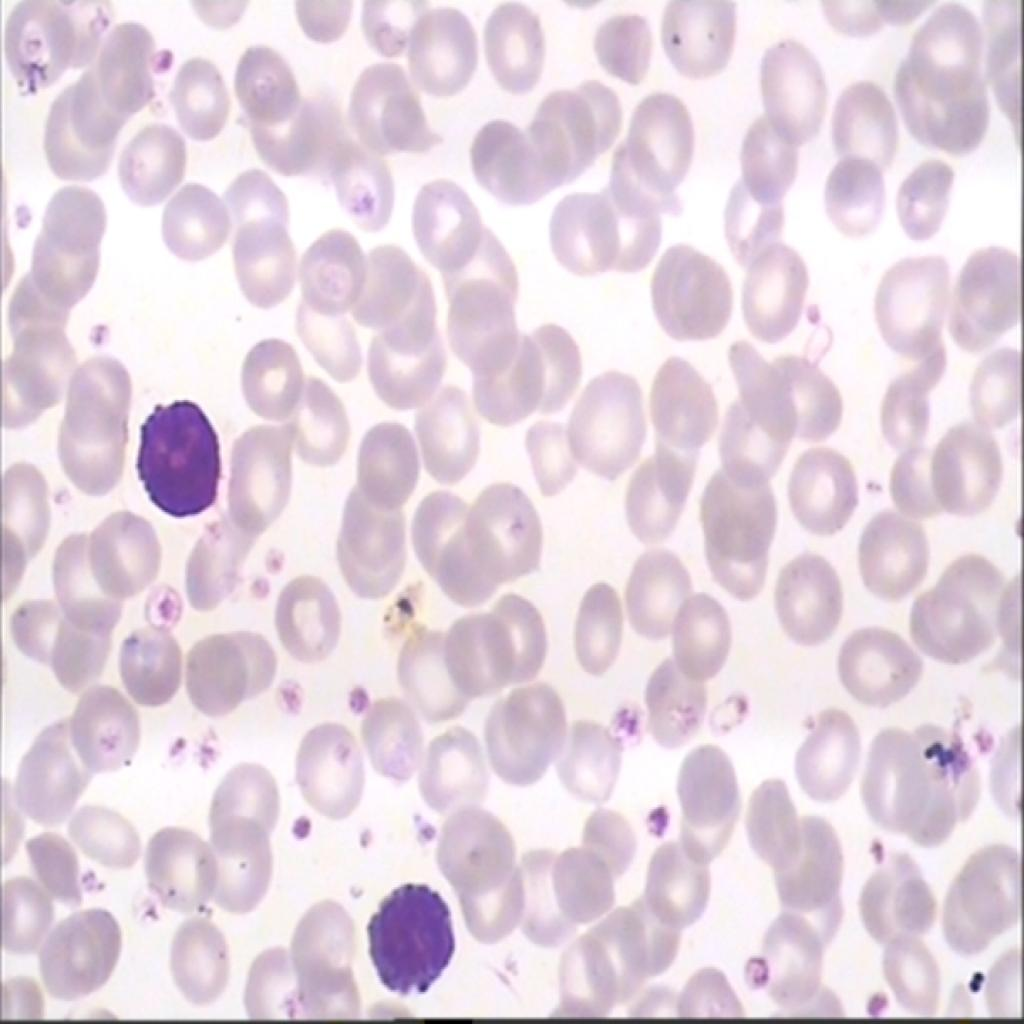Basofil: (127, 386, 239, 535), (354, 869, 462, 1001)
Platelet: (84, 304, 128, 364), (334, 663, 376, 724), (137, 30, 179, 89), (270, 670, 309, 731), (401, 800, 444, 852), (252, 532, 288, 590), (604, 693, 643, 743), (856, 978, 896, 1022), (286, 802, 323, 846), (0, 192, 37, 236), (189, 725, 219, 779), (640, 791, 674, 837), (964, 708, 993, 758), (155, 720, 186, 764), (151, 588, 179, 636), (243, 567, 269, 617), (348, 810, 377, 852), (859, 822, 883, 870), (735, 948, 765, 986)
